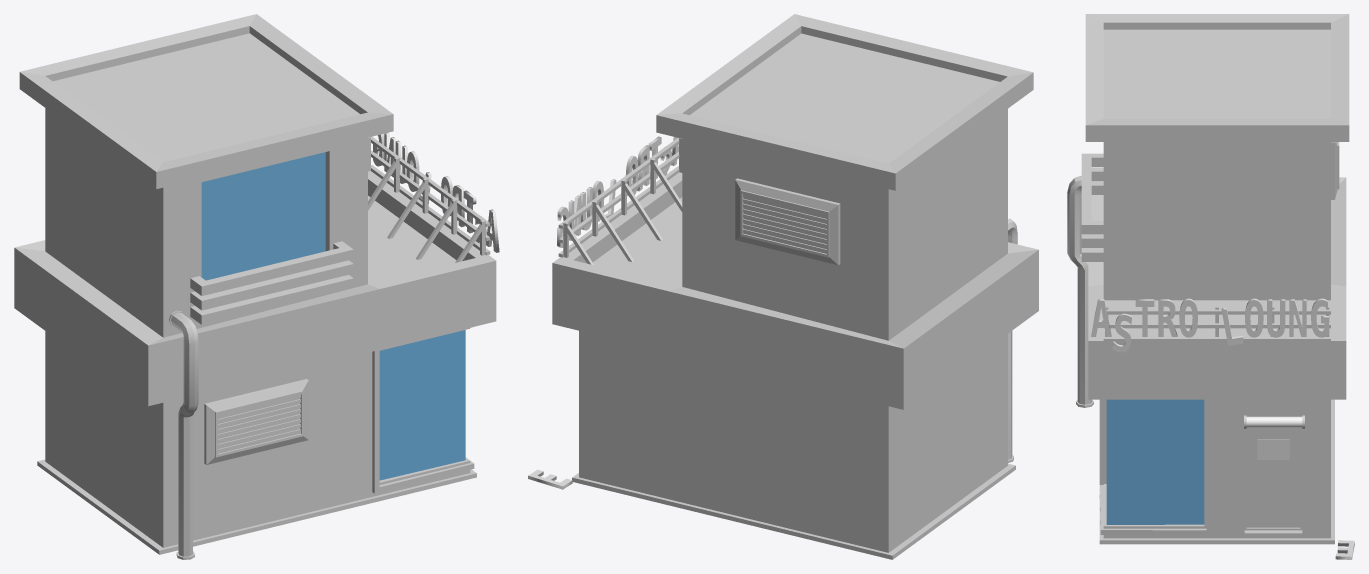
The model's file is bar_building.glb.
3 views of the same model, side by side, from view 1: azimuth 30°, elevation 25°; view 2: azimuth 150°, elevation 25°; view 3: azimuth 270°, elevation 25° (orthographic). The views are drawn at different scales.
Parts seen in each view (by area): view 1: Building, VentPipes, Vent.001, Support, Pipe, Text; view 2: Building, Vent, Support, Text, Pipe; view 3: Building, Text, Support, Pipe, VentPipes, Lighttube, Vent.
Boxes of the visible parts, <box> form: Building: <box>14,14,496,554</box>; VentPipes: <box>190,241,353,324</box>; Vent.001: <box>204,379,308,464</box>; Support: <box>368,136,490,262</box>; Pipe: <box>169,310,198,559</box>; Text: <box>373,133,499,252</box>; Building: <box>552,14,1038,559</box>; Vent: <box>735,178,840,265</box>; Support: <box>558,138,682,265</box>; Text: <box>528,136,678,489</box>; Pipe: <box>1008,218,1017,462</box>; Building: <box>1085,14,1349,544</box>; Text: <box>1091,298,1354,559</box>; Support: <box>1103,306,1330,341</box>; Pipe: <box>1067,176,1103,407</box>; VentPipes: <box>1081,153,1103,261</box>; Lighttube: <box>1244,415,1304,429</box>; Vent: <box>1331,142,1339,199</box>.
Bounding box in the file's own units: 7.22 × 7.3 × 5.06.
